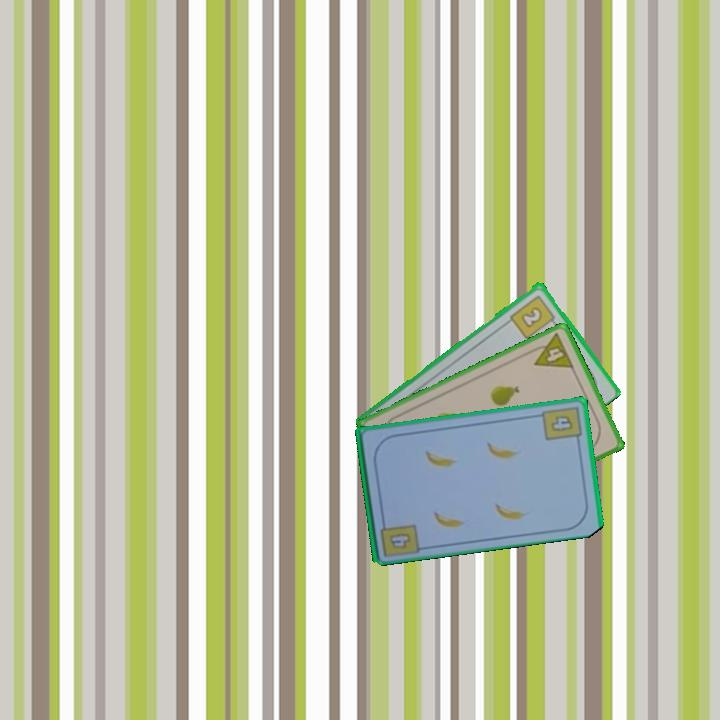2b: (506, 291, 560, 342)
4b: (539, 402, 584, 446), (386, 529, 414, 552)
4p: (525, 330, 577, 371)
